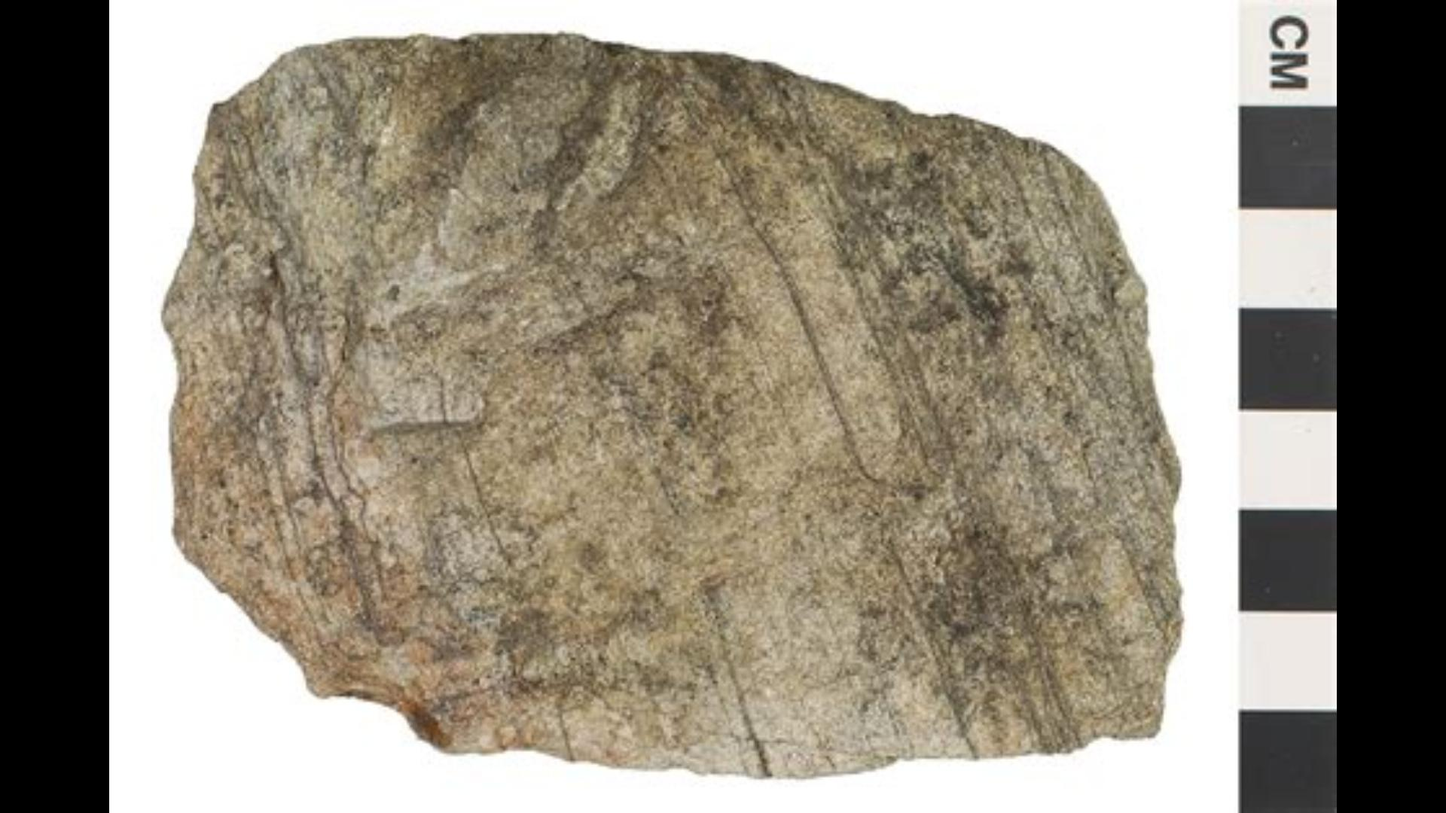rock: (164, 36, 1176, 777)
